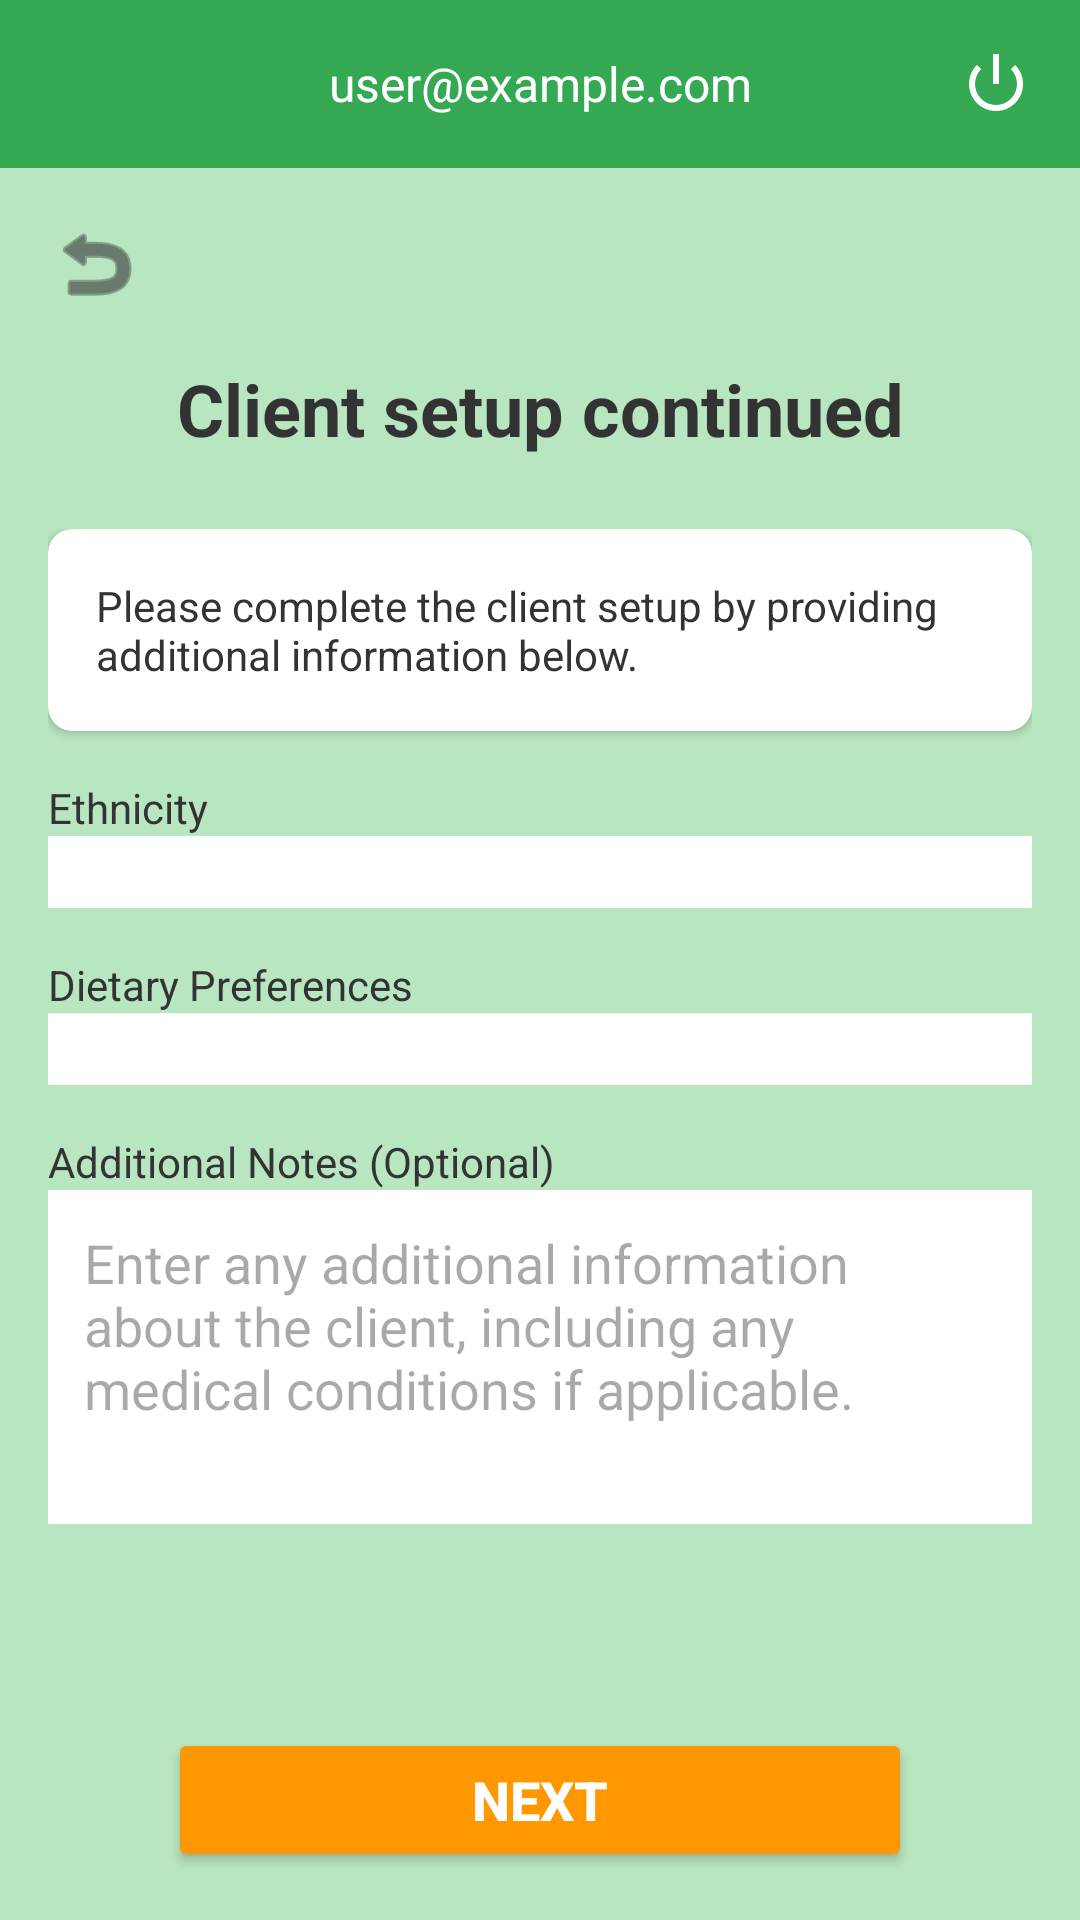

Icon bounding boxes for this 1080 x 1920 phone screenshot, format (x1, y1, x2, y2):
Back: (63, 233, 132, 296)
